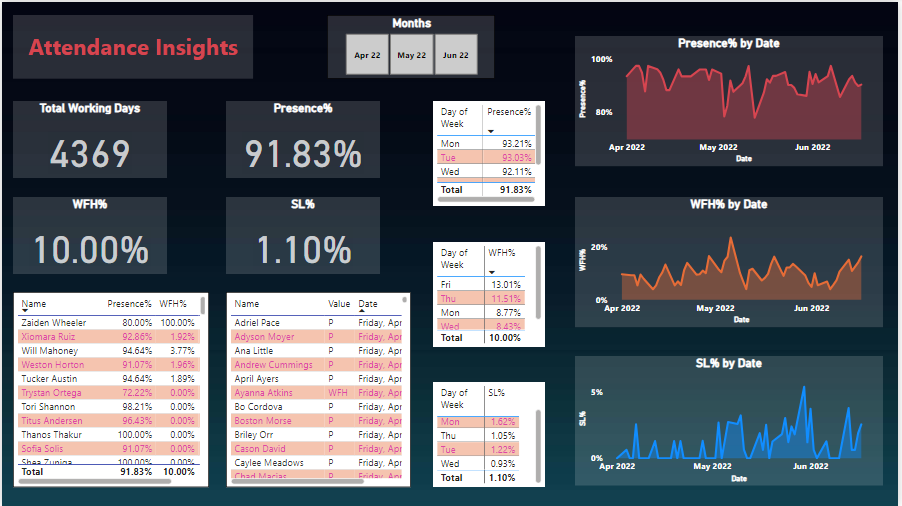

What the dashboard file says about the page in this screenshot:
{"tool":"powerbi","page":{"name":"Page 1","canvas":[1280,720],"ordinal":0},"visuals":[{"type":"cardVisual","title":"Total Working Days","fields":{"Data":["Measures Table.Total working Days"]},"box":[15.7,141.4,220,110],"z":0},{"type":"cardVisual","title":"Presence%","fields":{"Data":["Measures Table.Presence%"]},"box":[320,141.4,220,110],"z":3000},{"type":"textbox","box":[15.7,18.6,342.9,91.4],"z":5000},{"type":"tableEx","fields":{"Values":["Final Data.Name","Measures Table.Presence%","Measures Table.WFH%","Measures Table.SL%"]},"box":[15.7,414.3,280,278.6],"z":6000},{"type":"slicer","title":"Months","fields":{"Values":["Final Data.Month"]},"box":[464.3,18.6,240,91.4],"z":7000},{"type":"cardVisual","title":"WFH%","fields":{"Data":["Measures Table.WFH%"]},"box":[15.7,278.6,220,110],"z":8000},{"type":"cardVisual","title":"SL%","fields":{"Data":["Measures Table.SL%"]},"box":[320,278.6,220,110],"z":9000},{"type":"tableEx","fields":{"Values":["Final Data.Name","Final Data.Value","Final Data.Date"]},"box":[320,414.3,264.3,278.6],"z":10000},{"type":"areaChart","fields":{"Y":["Measures Table.Presence%"],"Category":["Final Data.Date"]},"box":[818.6,48.6,440,185.7],"z":11000},{"type":"areaChart","fields":{"Category":["Final Data.Date"],"Y":["Measures Table.WFH%"]},"box":[818.6,278.6,440,185.7],"z":12000},{"type":"areaChart","fields":{"Category":["Final Data.Date"],"Y":["Measures Table.SL%"]},"box":[818.6,505.7,440,185],"z":13000},{"type":"tableEx","title":"Presence% by day of week","fields":{"Values":["Final Data.Day of Week","Measures Table.Presence%"]},"box":[615.7,141.4,160,150],"z":14000},{"type":"tableEx","fields":{"Values":["Final Data.Day of Week","Measures Table.WFH%"]},"box":[615.7,342.9,160,150],"z":15000},{"type":"tableEx","fields":{"Values":["Final Data.Day of Week","Measures Table.SL%"]},"box":[615.7,542.9,160,150],"z":15001}]}

Visuals, with their boxes in screenshot pixels (x1, y1, x2, y2), scaled from the page's 1280x720 canvas onto the 902x506 screenshot:
"Total Working Days" cardVisual: [11,99,166,177]
"Presence%" cardVisual: [226,99,381,177]
textbox: [11,13,253,77]
tableEx - Final Data.Name x Measures Table.Presence%: [11,291,208,487]
"Months" slicer: [327,13,496,77]
"WFH%" cardVisual: [11,196,166,273]
"SL%" cardVisual: [226,196,381,273]
tableEx - Final Data.Name x Final Data.Value: [226,291,412,487]
areaChart - Measures Table.Presence% x Final Data.Date: [577,34,887,165]
areaChart - Final Data.Date x Measures Table.WFH%: [577,196,887,326]
areaChart - Final Data.Date x Measures Table.SL%: [577,355,887,485]
"Presence% by day of week" tableEx: [434,99,547,205]
tableEx - Final Data.Day of Week x Measures Table.WFH%: [434,241,547,346]
tableEx - Final Data.Day of Week x Measures Table.SL%: [434,382,547,487]
